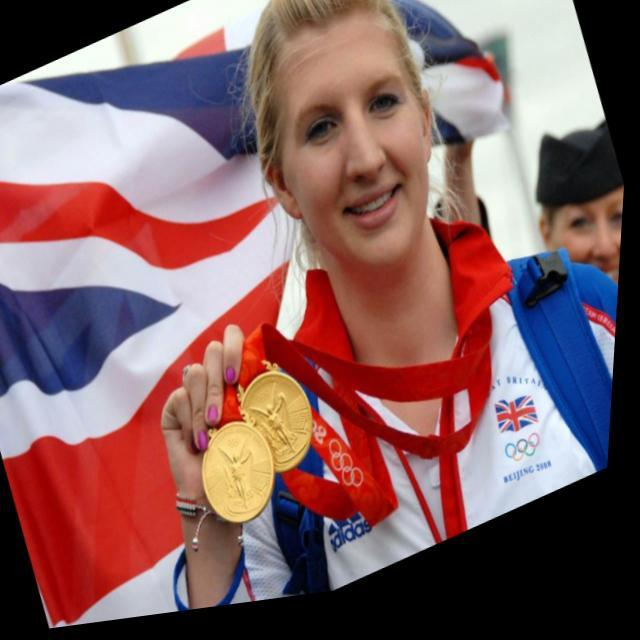Nonhelmet: (224, 0, 482, 284)
